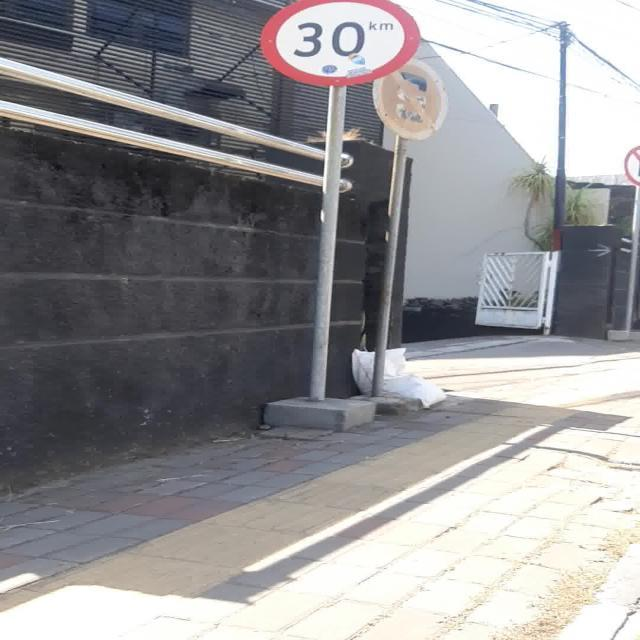Kecepatan Maks. 30 km: (258, 0, 422, 86)
